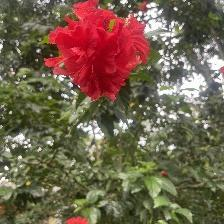hibiscus: (46, 1, 153, 102)
